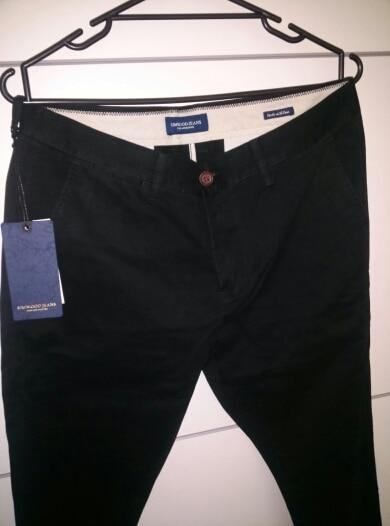pants: (4, 95, 385, 521)
